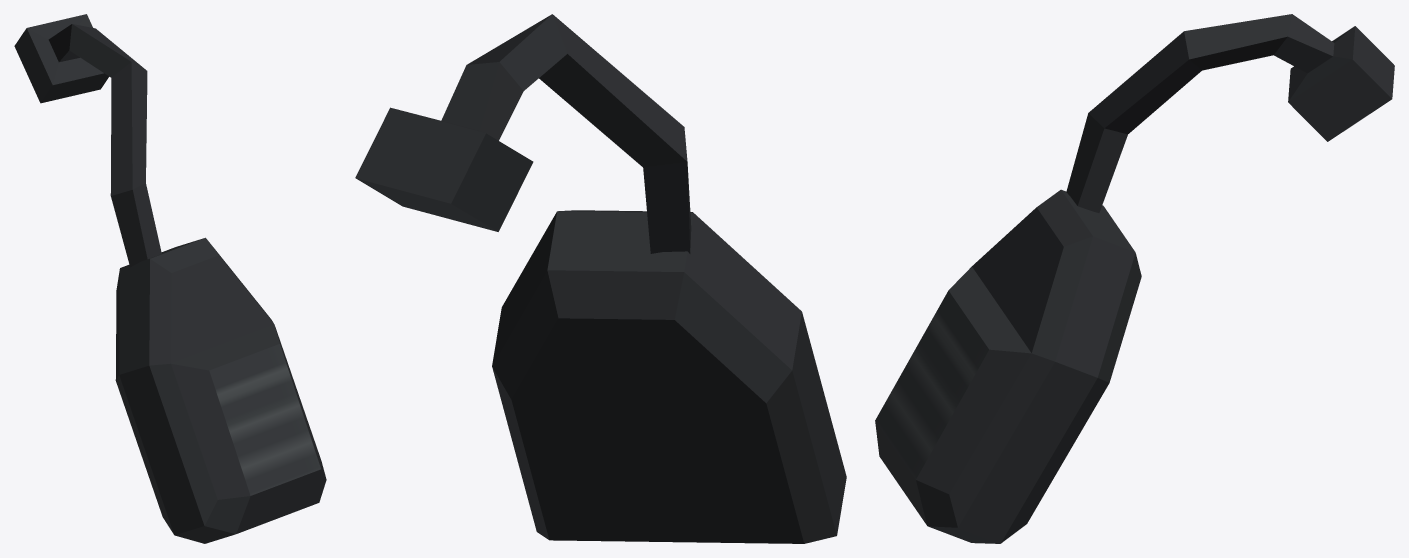
Rendered from SM_Chr_Attach_Radio_01.fbx.
The picture shows the model from 3 angles, left to right: view 1: azimuth 30°, elevation 25°; view 2: azimuth 150°, elevation 25°; view 3: azimuth 270°, elevation 25°; orthographic projection. The views are drawn at different scales.
Parts seen in each view (by area): view 1: SM_Chr_Attach_Radio_01; view 2: SM_Chr_Attach_Radio_01; view 3: SM_Chr_Attach_Radio_01.
Part boxes in pixels (x1,y1,x2,y2): SM_Chr_Attach_Radio_01: [14, 14, 326, 543]; SM_Chr_Attach_Radio_01: [355, 14, 846, 543]; SM_Chr_Attach_Radio_01: [875, 14, 1394, 543].
Size of the model in its own units: 7.58 by 16.63 by 16.22.
